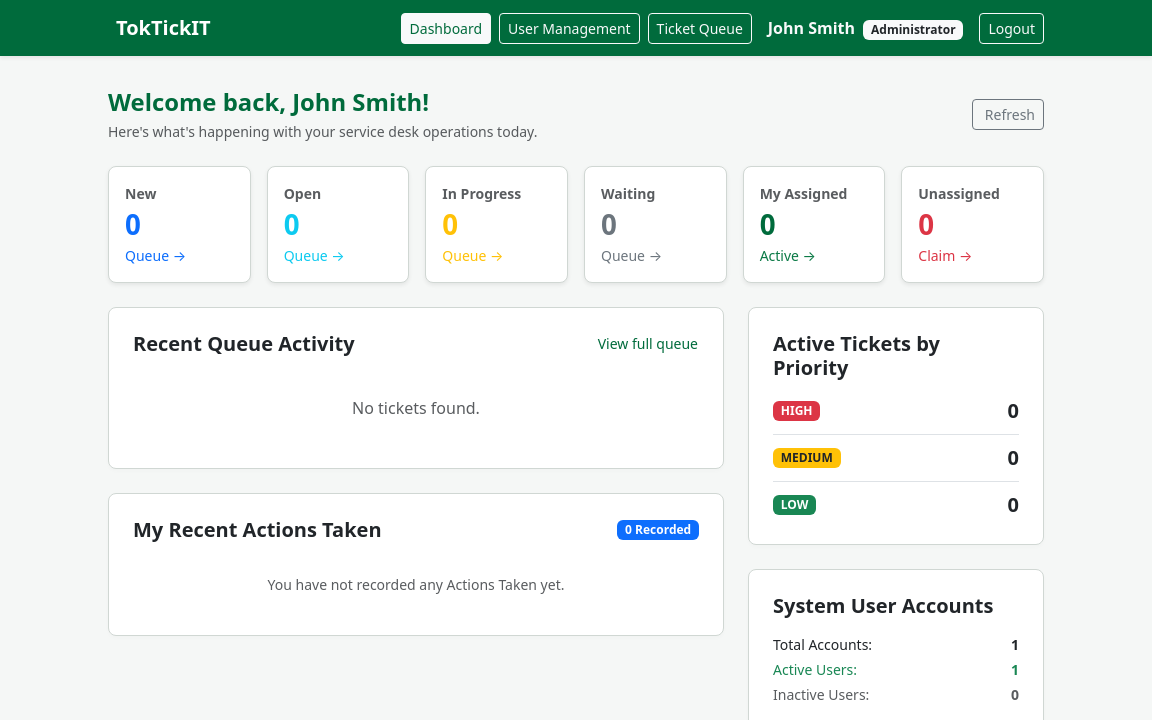
Test: Administrator User Management › renders the User Accounts Management title and list
The width and height of the screenshot is (1152, 720).
Click the button "User Management": (569, 28) [499,12,640,44]
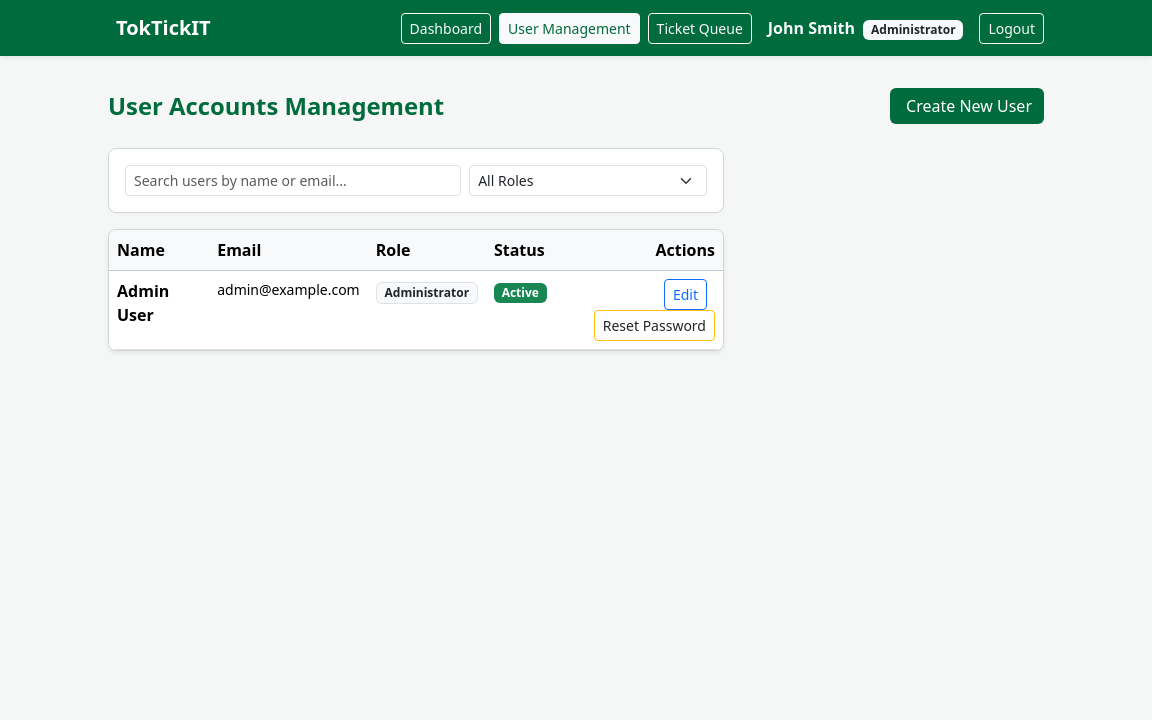
Check: the heading "User Accounts Management" is shown, box [108,92,444,120]
Check: the text "Admin User" is shown, box [109,270,209,350]
